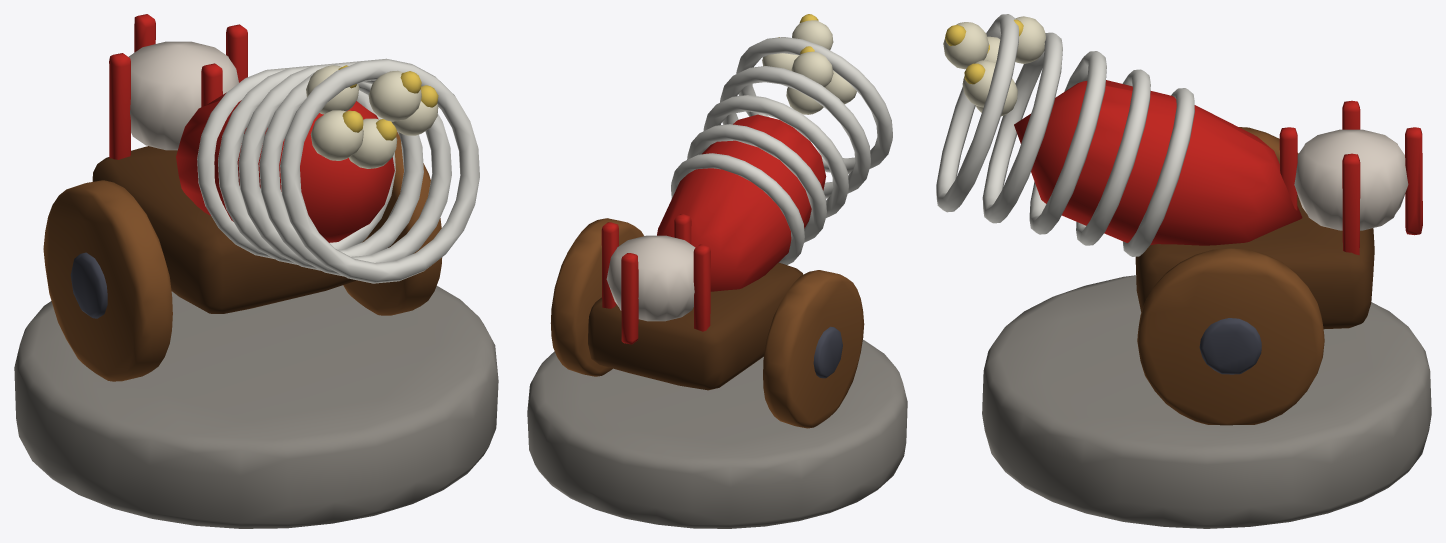
The model's file is PopcornKanone.fbx.
3 views of the same model, side by side, from view 1: azimuth 30°, elevation 25°; view 2: azimuth 150°, elevation 25°; view 3: azimuth 270°, elevation 25° (orthographic). The views are drawn at different scales.
Visible parts, largest first — view 1: PopcornKanone; view 2: PopcornKanone; view 3: PopcornKanone.
Part boxes in pixels (x1=…): PopcornKanone: x1=14, y1=14, x2=498, y2=528; PopcornKanone: x1=527, y1=14, x2=907, y2=528; PopcornKanone: x1=936, y1=14, x2=1431, y2=528.
Size of the model in its own units: 0.9339 by 0.9737 by 1.03.
